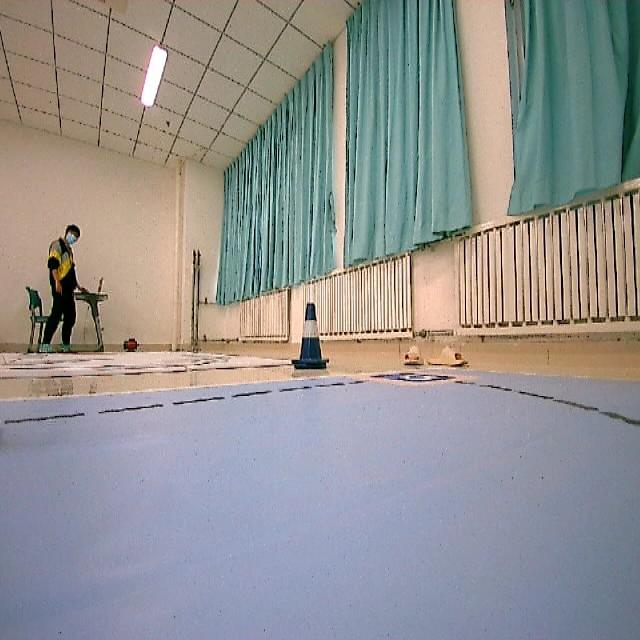obstacle: (282, 300, 330, 382)
